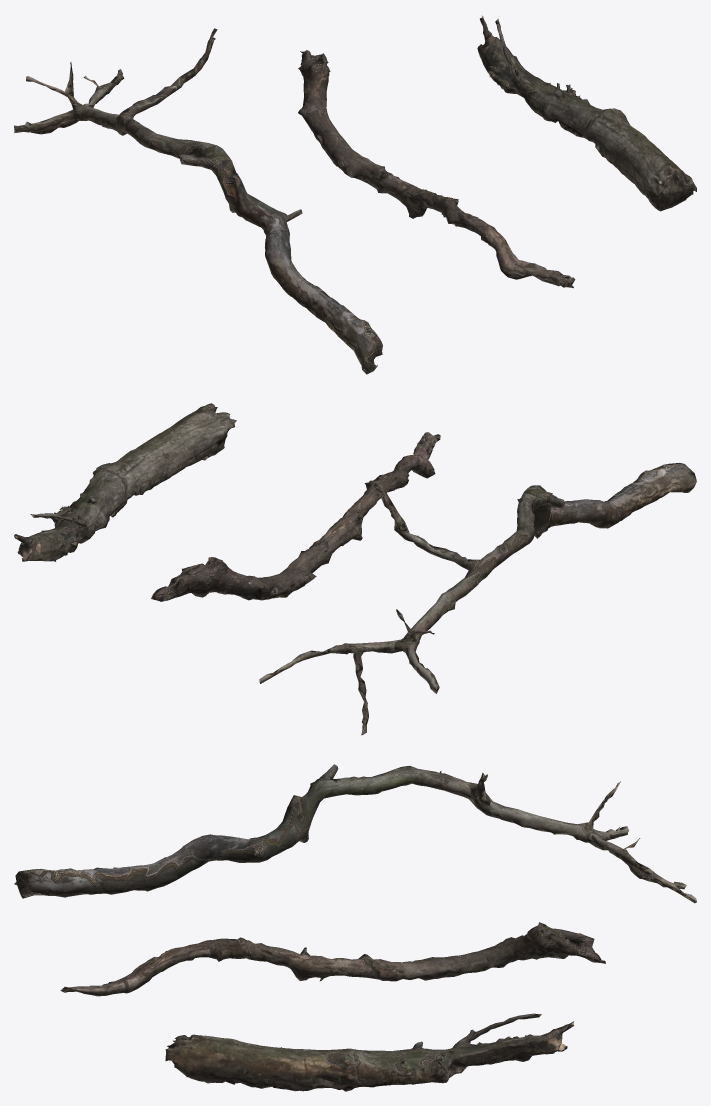
Rendered from dry_branches_medium_01.glb.
3 renders of one model, top to bottom at view 1: azimuth 30°, elevation 25°; view 2: azimuth 150°, elevation 25°; view 3: azimuth 270°, elevation 25°, orthographic.
Visible parts, largest first — view 1: dry_branches_medium_01_c; view 2: dry_branches_medium_01_c; view 3: dry_branches_medium_01_c.
Part boxes in pixels (bbox=[...]): dry_branches_medium_01_c: bbox=[14, 15, 696, 374]; dry_branches_medium_01_c: bbox=[14, 403, 696, 735]; dry_branches_medium_01_c: bbox=[14, 764, 696, 1091].
Bounding box in the file's own units: 1.05 × 0.3367 × 1.3.
Materials: 1 (1 with a texture image).
